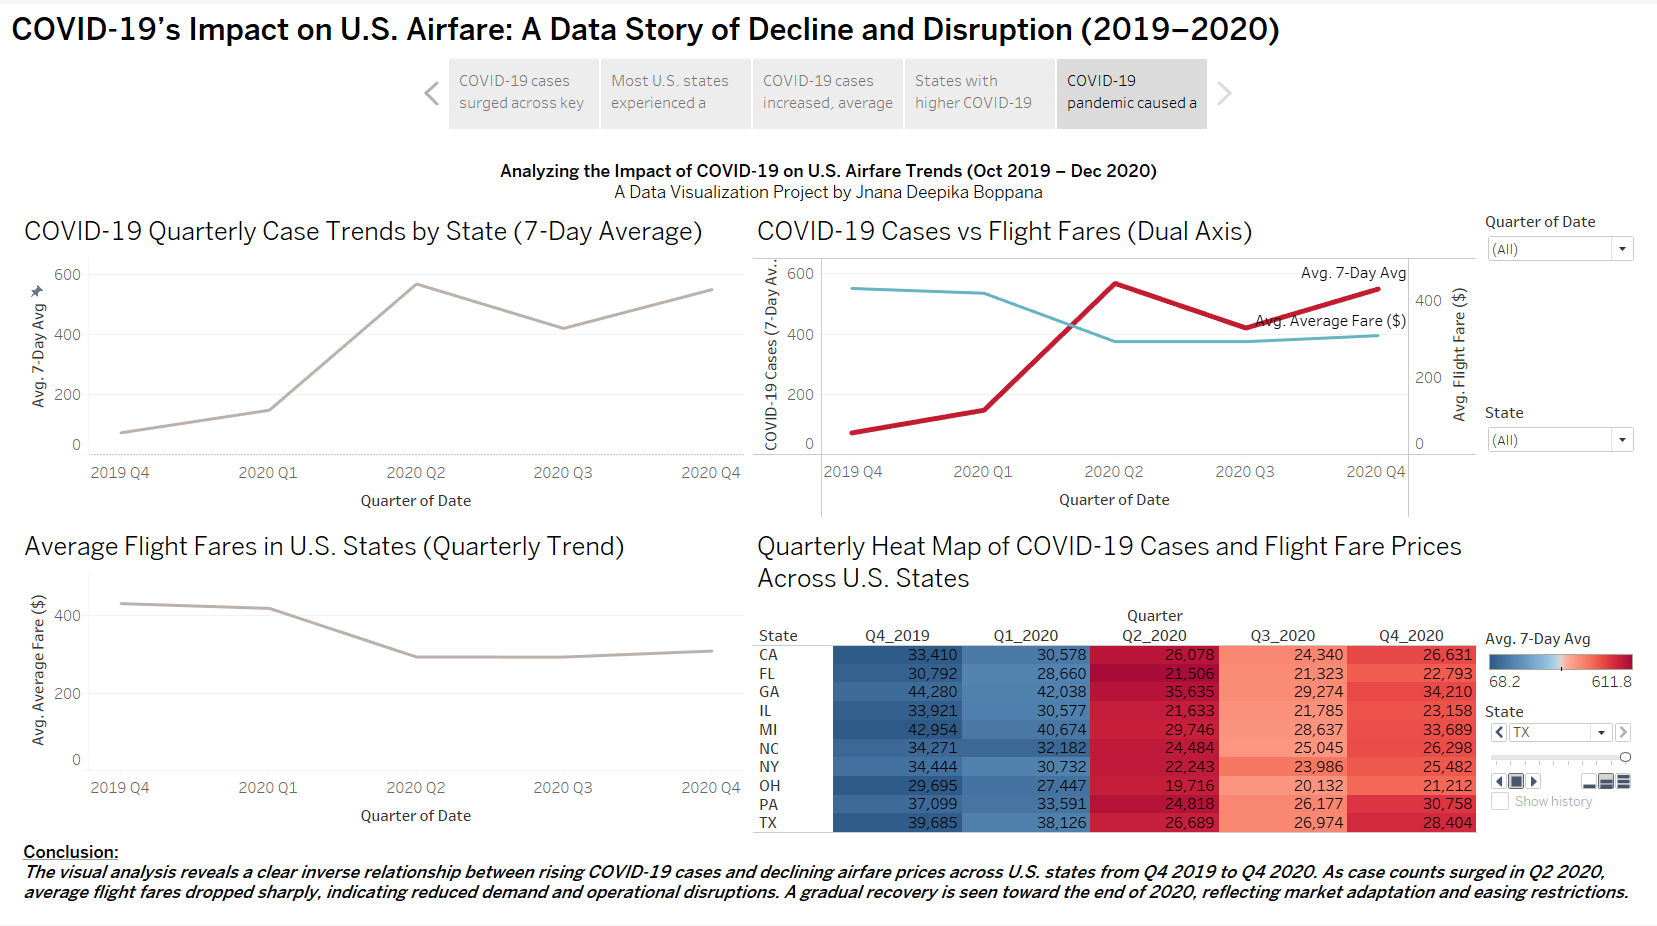

The dashboard page shown, as its layout file describes it:
{"tool":"tableau","page":{"name":"Dashboard 1","canvas":[1000,1000],"units":"permille","ordinal":0},"visuals":[{"type":"text","box":[4.8,8.7,990.3,65.7]},{"type":"worksheet","title":"COVID-19 Quarterly Case Trends","mark":"Line","rows":["7-Day Avg"],"cols":["Date"],"box":[4.8,74.4,446.9,411.3]},{"type":"worksheet","title":"COVID-19 Cases vs Flight Fares","mark":"Automatic","rows":["7-Day Avg","Average Fare ($)"],"cols":["Date"],"box":[451.7,74.4,446.9,411.3]},{"type":"filter","title":"Average Flight Fares in U.S. States","param":"[federated.06hnyd11e3oels14inias13boalp].[qr:Date:ok]","box":[898.6,74.4,96.6,207.4]},{"type":"filter","title":"Average Flight Fares in U.S. States","param":"[federated.06hnyd11e3oels14inias13boalp].[none:State:nk]","box":[898.6,281.7,96.6,245.4]},{"type":"worksheet","title":"Average Flight Fares in U.S. States","mark":"Line","rows":["Average Fare ($)"],"cols":["Date"],"box":[4.8,485.7,446.9,411.4]},{"type":"worksheet","title":"Quarterly Heat Map of COVID-19 Cases and Flight Fare Prices Across U.S. States","mark":"Square","rows":["State"],"cols":["Quarter"],"box":[451.7,485.7,446.9,411.4]},{"type":"legend","title":"Quarterly Heat Map of COVID-19 Cases and Flight Fare Prices Across U.S. States","param":"[federated.06hnyd11e3oels14inias13boalp].[avg:7-Day Avg:qk]","box":[898.6,527.1,96.6,79.3]},{"type":"currpage","title":"COVID-19 Quarterly Case Trends","box":[898.6,606.4,96.6,129.2]},{"type":"text","box":[4.8,897.1,990.3,94.2]}]}

Visuals, with their boxes on the dashboard's canvas, which has no fixed pixel size, in thousandths of its width and height (x1, y1, x2, y2). These are canvas units, not pixel positions in the 1657x926 screenshot, which may show the page scaled, cropped or inside an application window:
text: x1=5 y1=9 x2=995 y2=74
"COVID-19 Quarterly Case Trends" worksheet (Line marks): x1=5 y1=74 x2=452 y2=486
"COVID-19 Cases vs Flight Fares" worksheet: x1=452 y1=74 x2=899 y2=486
"Average Flight Fares in U.S. States" filter: x1=899 y1=74 x2=995 y2=282
"Average Flight Fares in U.S. States" filter: x1=899 y1=282 x2=995 y2=527
"Average Flight Fares in U.S. States" worksheet (Line marks): x1=5 y1=486 x2=452 y2=897
"Quarterly Heat Map of COVID-19 Cases and Flight Fare Prices Across U.S. States" worksheet (Square marks): x1=452 y1=486 x2=899 y2=897
"Quarterly Heat Map of COVID-19 Cases and Flight Fare Prices Across U.S. States" legend: x1=899 y1=527 x2=995 y2=606
"COVID-19 Quarterly Case Trends" currpage: x1=899 y1=606 x2=995 y2=736
text: x1=5 y1=897 x2=995 y2=991
